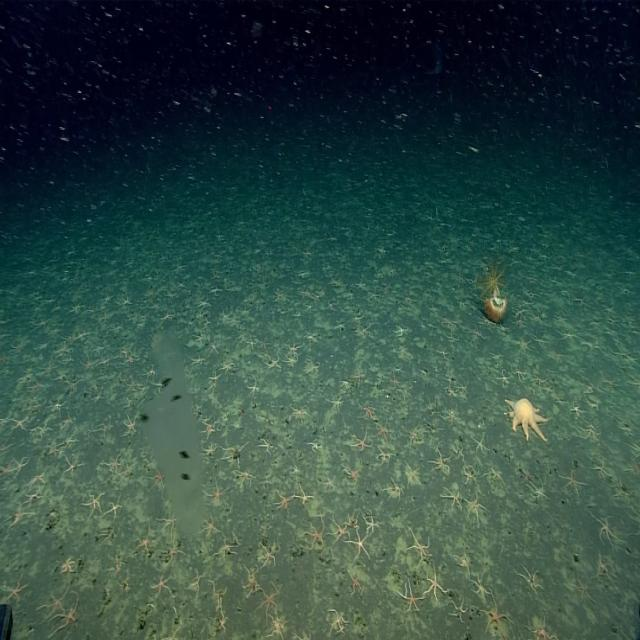brittle-stars: (590, 514, 620, 547), (483, 598, 509, 636), (2, 571, 28, 604), (258, 586, 280, 622), (520, 564, 546, 594), (59, 594, 80, 631), (398, 581, 422, 612), (558, 469, 584, 496), (305, 518, 326, 551), (409, 530, 432, 560), (424, 568, 444, 602), (527, 616, 555, 640), (104, 550, 126, 580), (114, 568, 132, 604), (569, 577, 593, 603), (42, 588, 65, 615), (150, 573, 172, 600), (343, 506, 365, 533), (354, 360, 374, 389), (421, 417, 444, 442), (350, 530, 369, 558), (98, 520, 117, 548), (7, 505, 29, 529), (267, 615, 288, 640), (464, 492, 484, 518), (136, 526, 154, 554), (594, 553, 612, 581), (329, 610, 348, 636), (243, 566, 260, 595), (163, 541, 184, 564), (207, 482, 227, 506), (260, 544, 278, 570), (473, 574, 491, 600), (443, 487, 463, 510), (64, 453, 83, 477), (332, 518, 351, 542), (430, 451, 451, 472), (528, 479, 548, 501), (85, 492, 105, 514), (222, 445, 244, 465), (108, 316, 126, 340), (584, 394, 602, 418), (406, 461, 423, 486), (385, 479, 403, 502), (202, 516, 219, 540), (218, 534, 235, 558), (348, 570, 364, 595), (352, 432, 371, 453), (211, 585, 227, 609), (613, 422, 637, 438), (592, 458, 610, 479), (470, 435, 488, 456), (11, 456, 29, 477), (426, 298, 444, 319), (344, 461, 361, 483), (160, 512, 177, 534), (452, 598, 468, 621), (106, 496, 122, 518), (274, 490, 292, 509), (237, 467, 255, 486), (296, 485, 314, 504), (582, 424, 601, 442), (25, 488, 44, 506), (148, 467, 165, 487), (522, 284, 542, 301), (375, 421, 391, 442), (628, 509, 640, 537), (187, 570, 202, 592), (30, 470, 48, 488), (612, 480, 630, 498), (582, 377, 599, 396), (106, 454, 122, 474), (158, 628, 184, 640), (127, 376, 144, 394), (378, 448, 395, 466), (33, 421, 51, 438), (444, 406, 460, 425), (97, 419, 113, 438), (362, 515, 377, 535), (121, 461, 136, 481), (582, 338, 602, 353), (401, 289, 416, 309), (339, 372, 353, 393), (358, 404, 374, 422), (98, 289, 116, 305), (291, 302, 302, 328), (215, 613, 228, 635), (626, 458, 640, 478), (424, 398, 438, 418), (333, 316, 347, 336), (409, 424, 422, 445), (290, 407, 307, 423), (11, 416, 28, 432), (80, 355, 96, 372), (513, 362, 528, 380), (60, 414, 75, 432), (150, 376, 165, 394), (62, 556, 76, 575), (456, 553, 470, 572), (0, 459, 14, 478), (516, 296, 535, 310), (125, 415, 138, 435), (50, 396, 66, 412), (467, 324, 483, 340), (62, 435, 78, 451), (40, 359, 56, 375), (517, 336, 532, 353), (286, 339, 301, 356), (547, 349, 565, 363), (261, 440, 276, 456), (202, 444, 218, 459), (488, 466, 503, 482), (330, 395, 345, 411), (202, 420, 216, 437), (559, 328, 576, 342), (306, 359, 321, 374), (531, 334, 547, 348), (530, 308, 544, 324), (92, 339, 104, 357), (283, 354, 298, 368), (438, 346, 452, 361), (57, 344, 72, 358), (496, 370, 509, 386), (570, 403, 583, 419), (521, 465, 534, 481), (75, 325, 88, 341), (322, 475, 335, 491), (450, 441, 462, 458), (248, 377, 258, 397), (0, 412, 11, 430), (306, 332, 320, 346), (308, 441, 322, 455), (125, 352, 139, 366), (30, 380, 44, 394), (382, 280, 396, 294), (443, 316, 458, 329), (532, 375, 547, 388), (396, 344, 409, 359), (208, 340, 220, 356), (47, 443, 59, 459), (464, 466, 476, 482), (628, 441, 640, 457), (400, 383, 412, 399), (295, 631, 316, 640), (220, 360, 234, 373), (572, 294, 586, 307), (70, 301, 83, 315), (161, 312, 176, 324), (208, 370, 220, 385), (390, 374, 401, 390), (191, 353, 204, 366), (56, 371, 69, 384), (447, 333, 460, 346), (269, 355, 281, 369), (394, 324, 408, 336), (68, 378, 80, 392), (364, 322, 376, 336), (630, 375, 640, 391), (556, 313, 568, 326), (209, 284, 222, 296), (144, 365, 157, 377), (514, 307, 527, 319), (240, 306, 252, 318), (199, 297, 212, 308), (125, 396, 136, 409), (220, 308, 230, 322), (326, 300, 336, 314), (219, 410, 229, 424), (194, 332, 204, 346), (368, 288, 379, 300), (305, 302, 316, 314), (119, 294, 130, 306), (447, 386, 458, 398), (457, 381, 468, 393), (355, 278, 366, 290), (98, 356, 109, 368), (290, 466, 300, 479), (514, 317, 527, 327), (352, 313, 363, 324), (261, 339, 271, 351), (544, 384, 554, 396), (445, 374, 455, 386), (118, 346, 128, 358), (301, 287, 311, 298), (231, 315, 241, 326), (312, 290, 322, 301), (211, 269, 221, 280), (245, 338, 254, 349), (150, 303, 160, 312), (275, 290, 284, 300)
